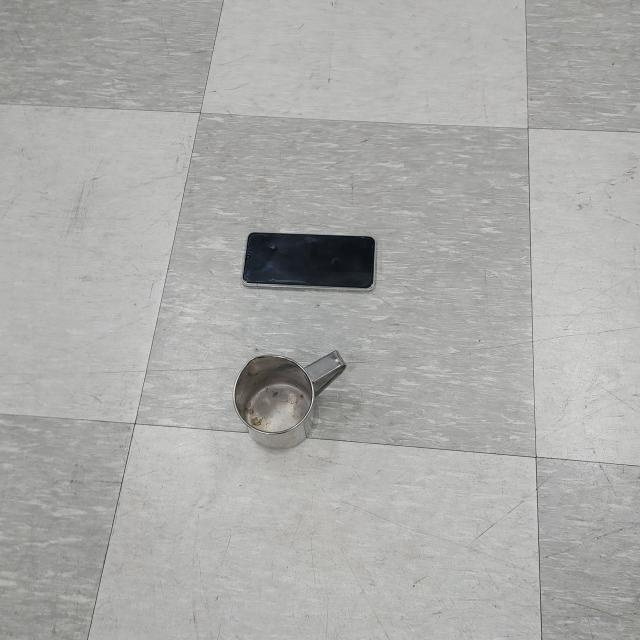cup: (233, 347, 350, 452)
phone: (242, 231, 377, 295)
